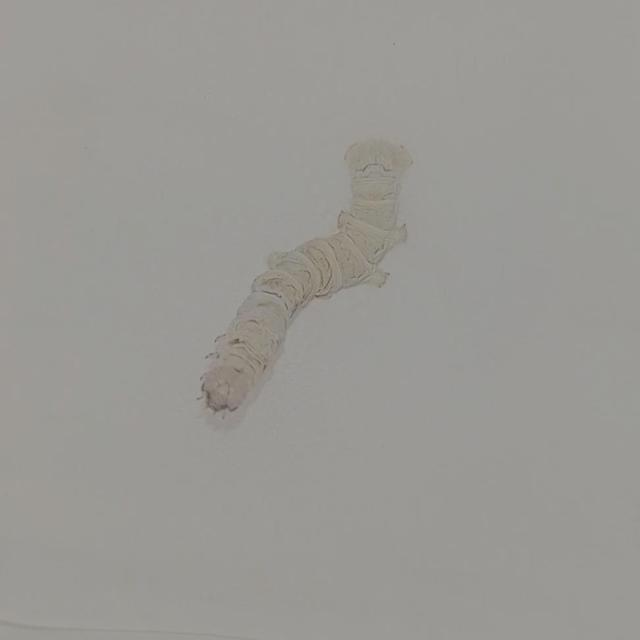Healthy: (186, 130, 421, 430)
